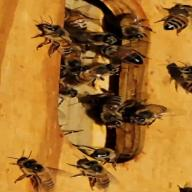Bee: (98, 91, 146, 137), (22, 22, 76, 59), (10, 152, 62, 189), (65, 154, 119, 188), (60, 6, 114, 37), (158, 53, 192, 100), (63, 64, 124, 88), (161, 0, 192, 38)
